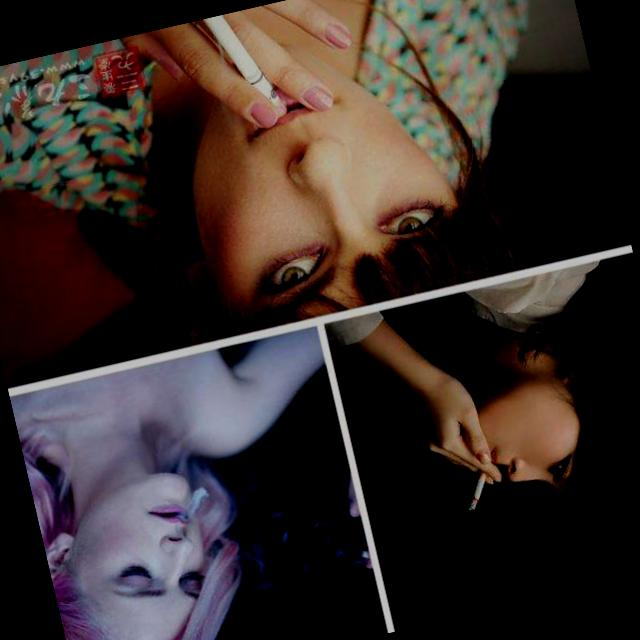cigarette: (204, 11, 298, 132), (448, 454, 502, 526)
